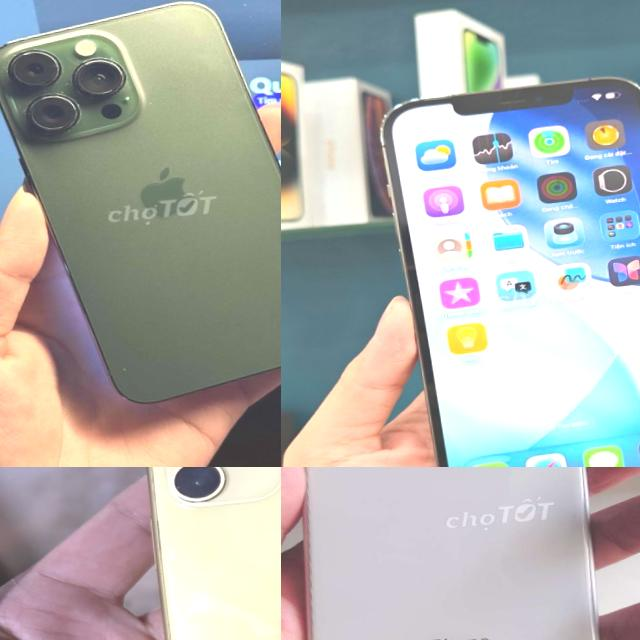gen_11: (130, 467, 281, 640)
gen_12_13: (0, 0, 281, 413), (366, 68, 640, 467)
gen_7_8: (281, 467, 623, 640)
scratch: (0, 35, 144, 137), (104, 349, 156, 406)
